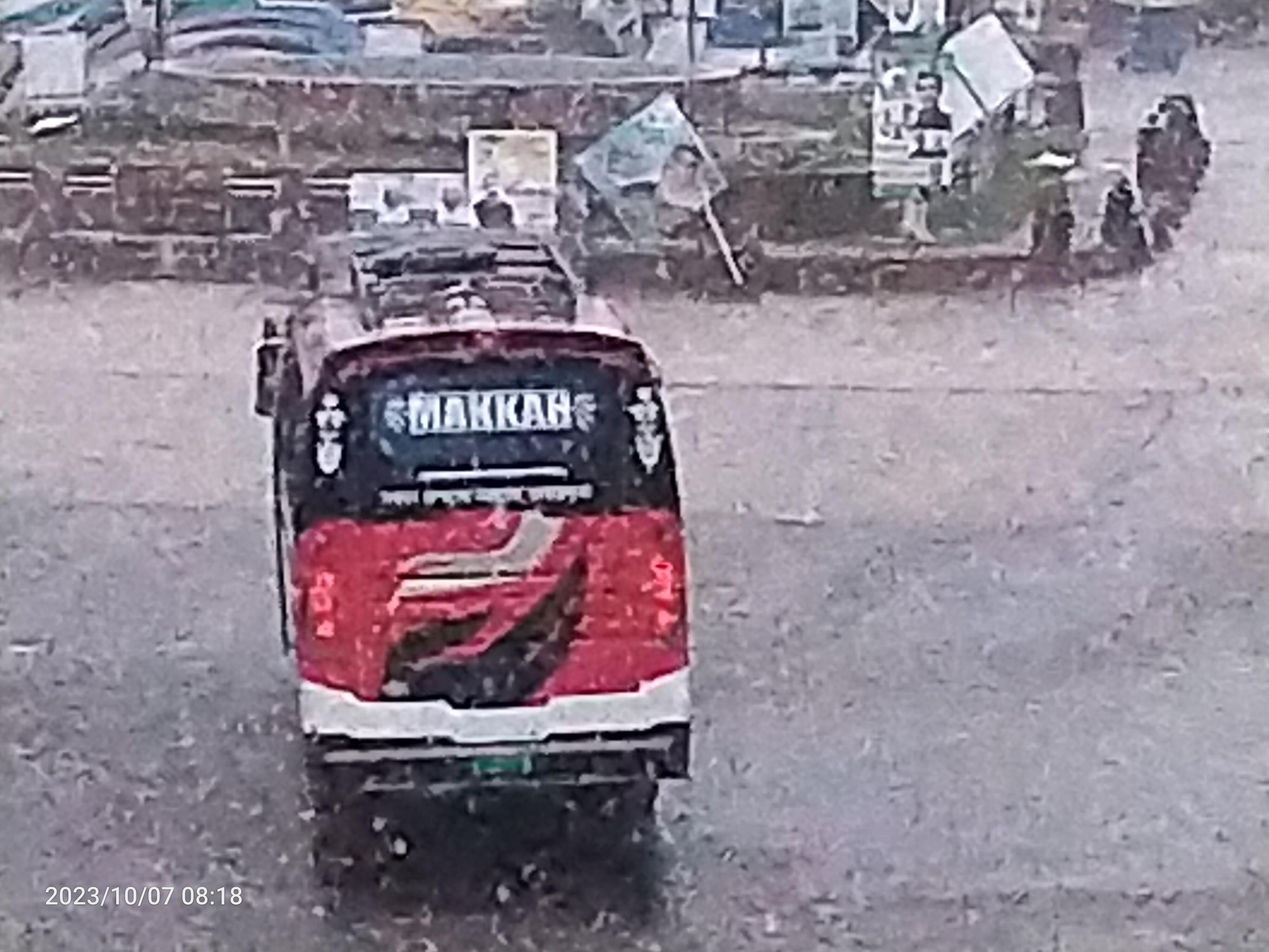Bus: (193, 202, 766, 867)
